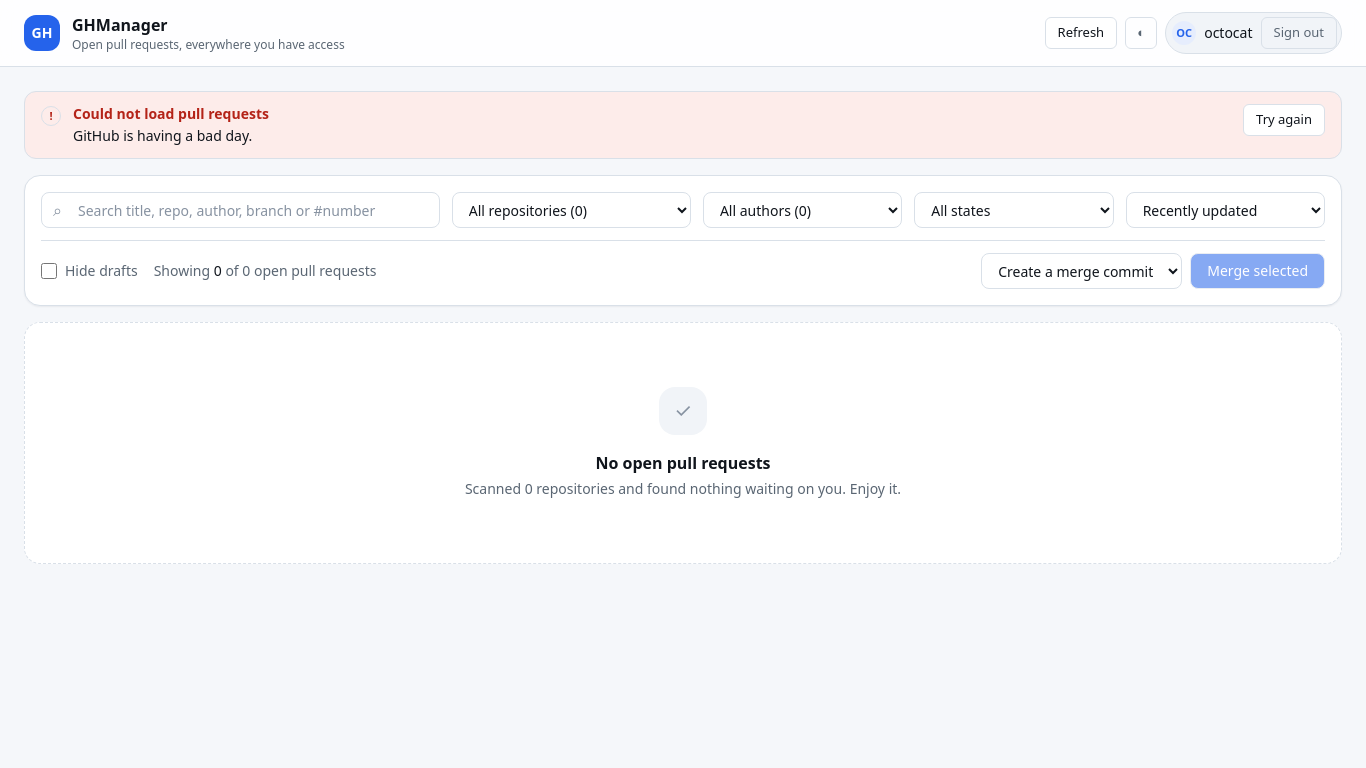
Scenario: Dashboard data display › shows an error banner with a retry when loading fails
Check: the text "Could not load pull requests" is shown, box [73,104,269,123]
Check: the text "GitHub is having a bad day." is shown, box [73,126,252,145]
What coordinates should you click on to do the following:
click the button "Try again"
I would click on:
 (1284, 120)
Its box is [1243,104,1325,136].
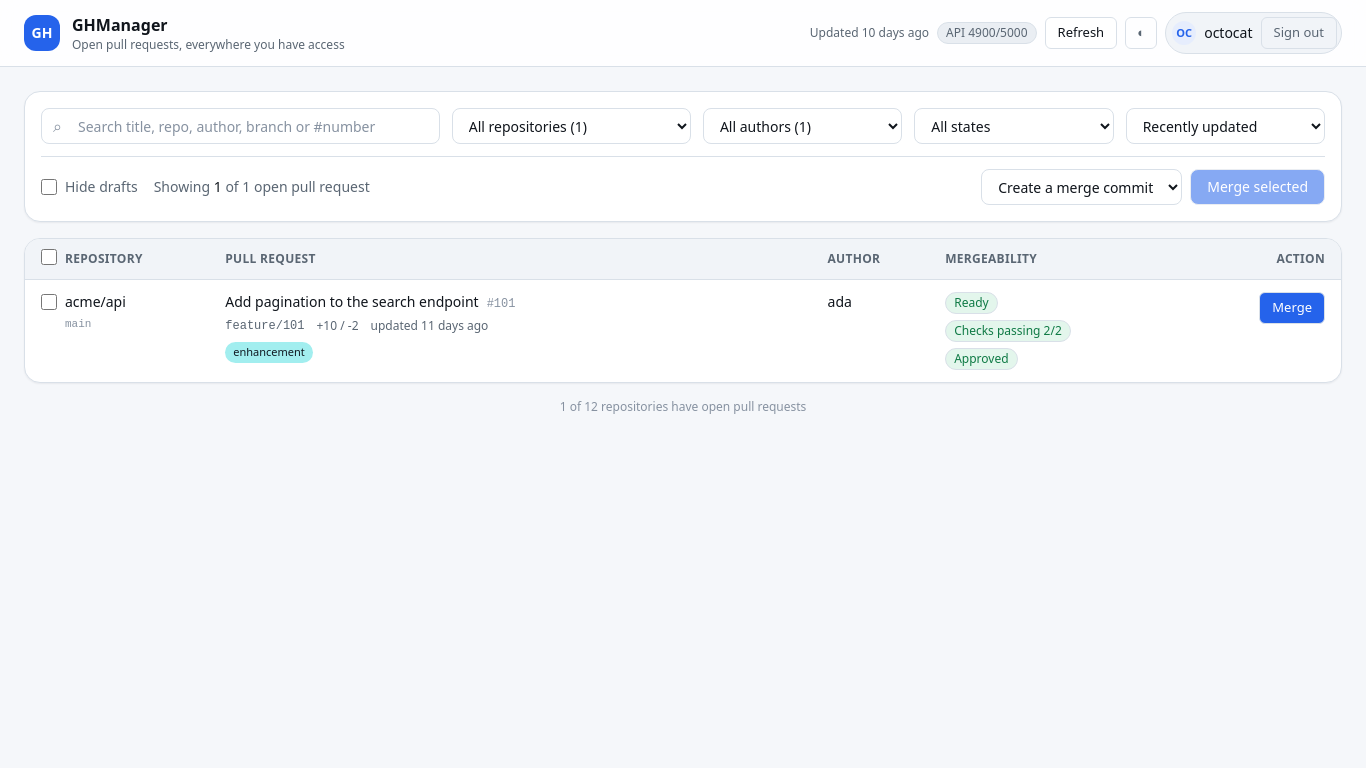
Check: the table is shown, box [25,239,1341,382]
